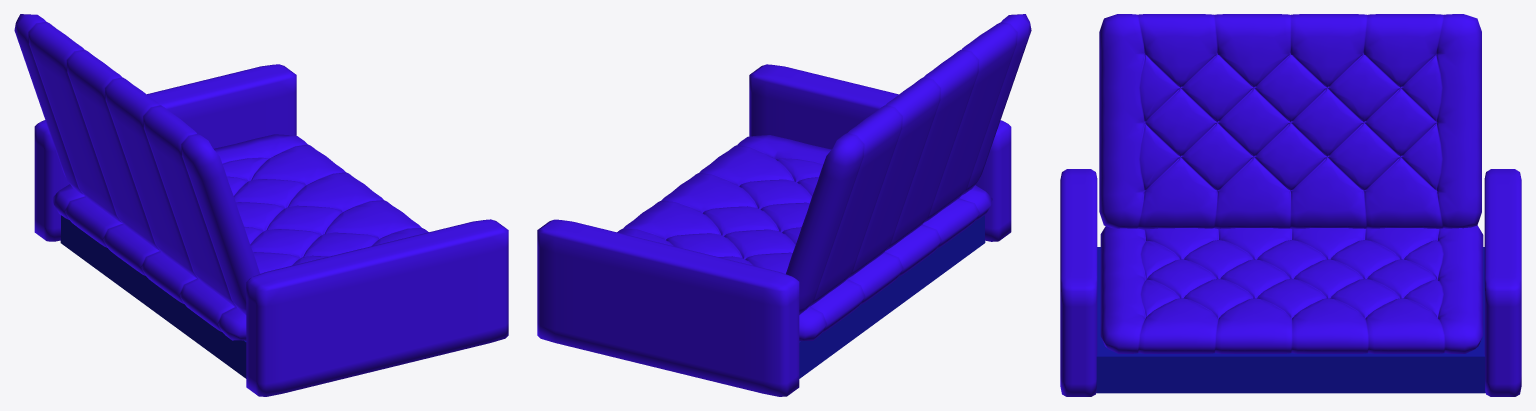
File: blue sofa export.FBX
The picture shows the model from 3 angles, left to right: view 1: azimuth 30°, elevation 25°; view 2: azimuth 150°, elevation 25°; view 3: azimuth 270°, elevation 25°; orthographic projection.
Visible parts, largest first — view 1: Box005, Box003, Box001, Box004, Box002; view 2: Box004, Box003, Box001, Box005, Box002; view 3: Box003, Box001, Box002, Box004, Box005.
Part boxes in pixels (x1,y1,x2,y2): Box005: [246, 219, 508, 396]; Box003: [14, 14, 260, 314]; Box001: [52, 134, 428, 340]; Box004: [34, 64, 296, 241]; Box002: [60, 215, 246, 378]; Box004: [537, 219, 799, 396]; Box003: [786, 14, 1031, 314]; Box001: [617, 135, 992, 341]; Box005: [749, 64, 1011, 241]; Box002: [799, 215, 985, 378]; Box003: [1099, 14, 1481, 229]; Box001: [1100, 225, 1483, 353]; Box002: [1096, 247, 1485, 393]; Box004: [1484, 169, 1521, 396]; Box005: [1060, 169, 1097, 396].
Size of the model in its own units: 124 by 100 by 170.
